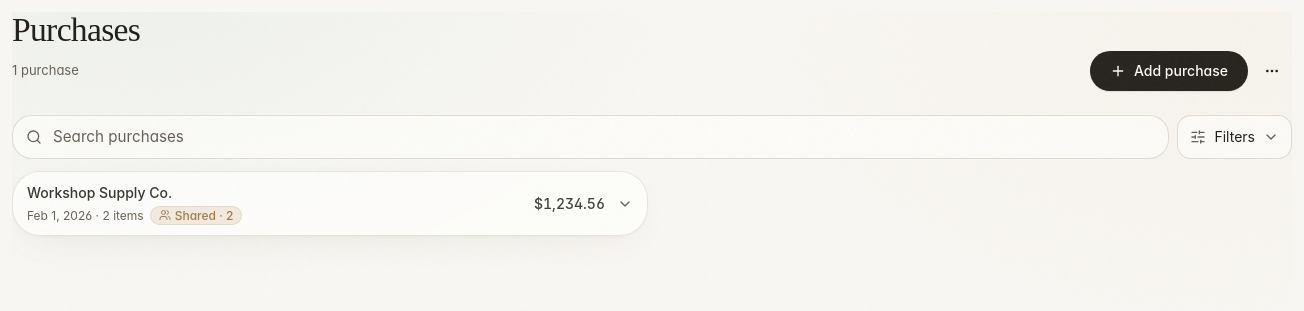
it: PurchasesPage › shows one primary action and keeps import and export one tap away
This screenshot has width=1304, height=311.
Expected: the button "Add purchase" is shown, top-left (1090, 51), bottom-right (1248, 91)
Expected: the link "Export" is not shown
Click the button named "More purchase actions" at (1272, 71), box top-left (1252, 51), bottom-right (1292, 91)
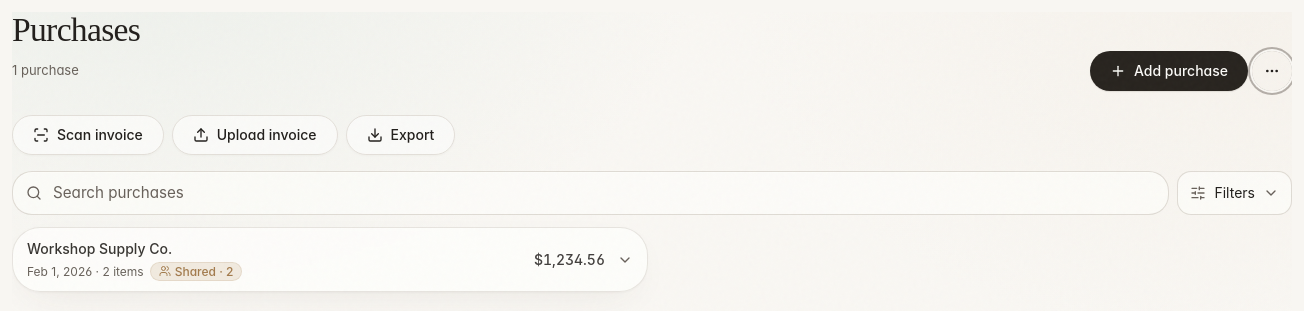
Expected: the button "Scan invoice" is shown, top-left (12, 115), bottom-right (164, 155)
Expected: the button "Upload invoice" is shown, top-left (172, 115), bottom-right (338, 155)
